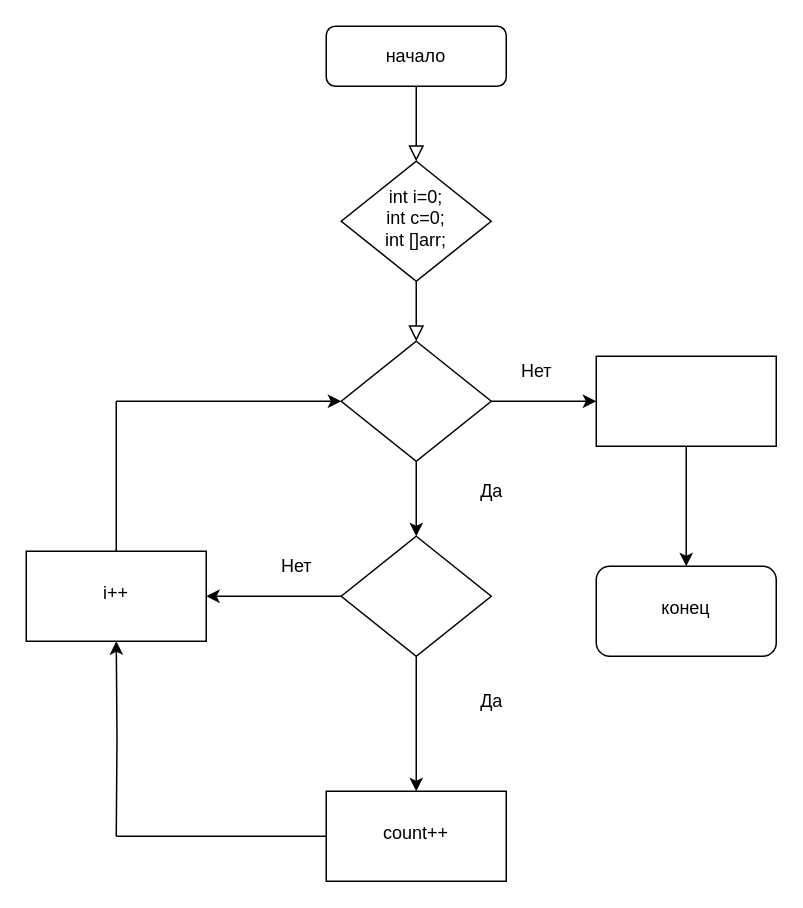
This 803x908 diagram has some shape labels left out. The centre of each missing label's shape, as x and y in pixels:
"arr[i].Length<=3" goes at (415,595).
"i<arr.Length" goes at (415,400).
"Вывод: count" goes at (685,400).
